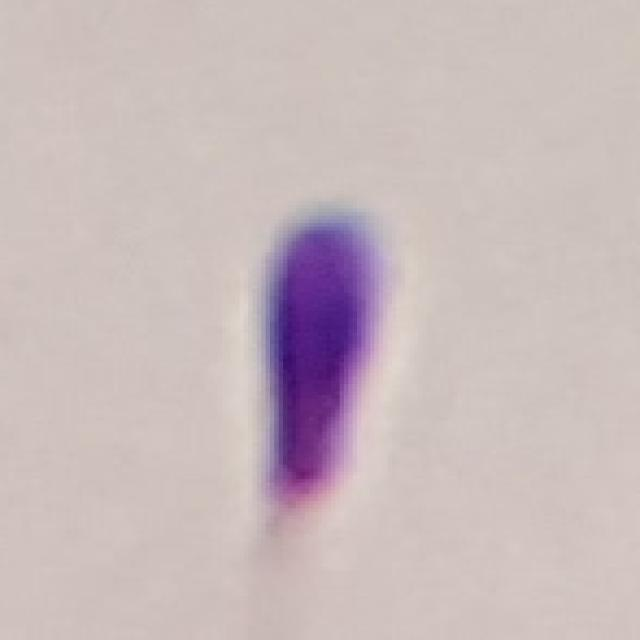abnormal sperm: (240, 207, 390, 591)
